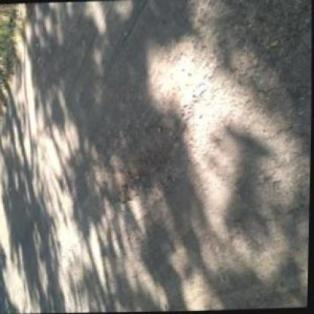Hueco: (100, 104, 190, 206)
